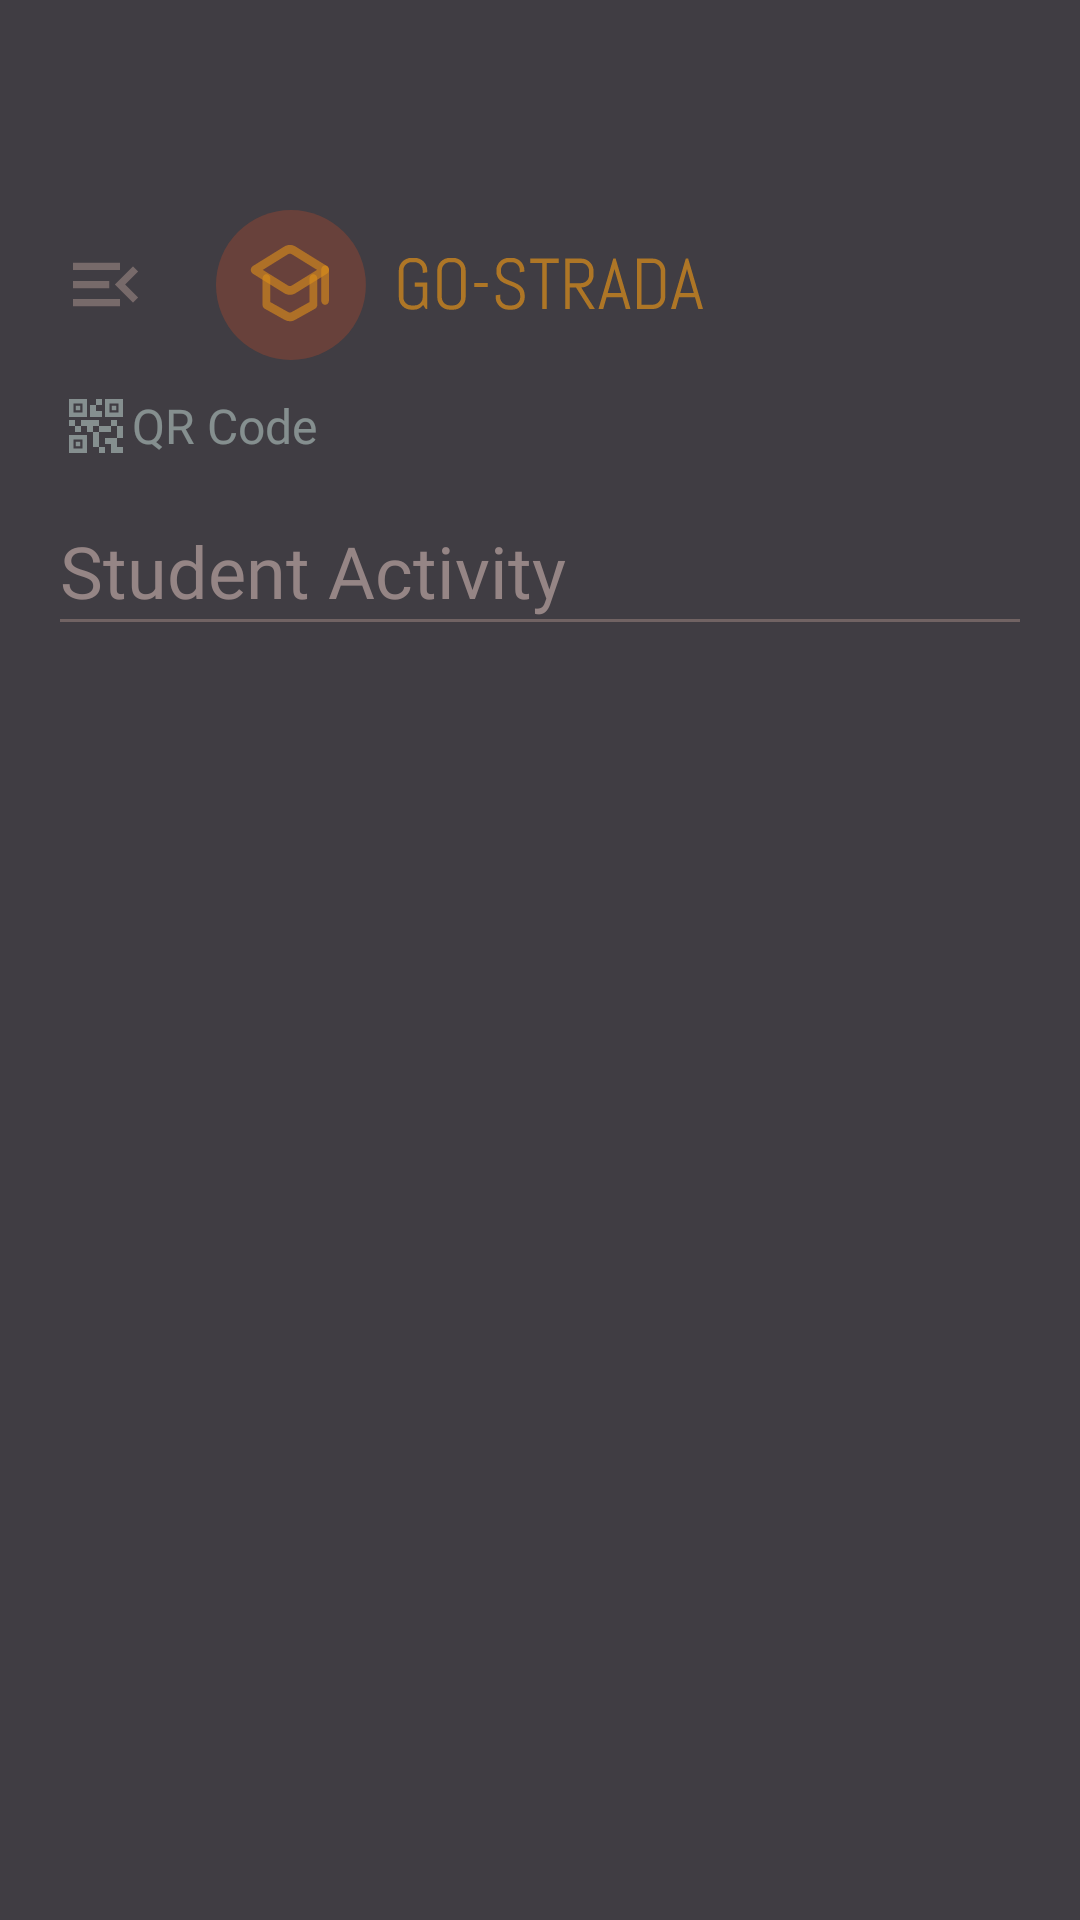

Named icons in this screenshot (1080×1920) and their bounding boxes, (x1, y1, x2, y2):
Menu Open: (73, 263, 138, 306)
